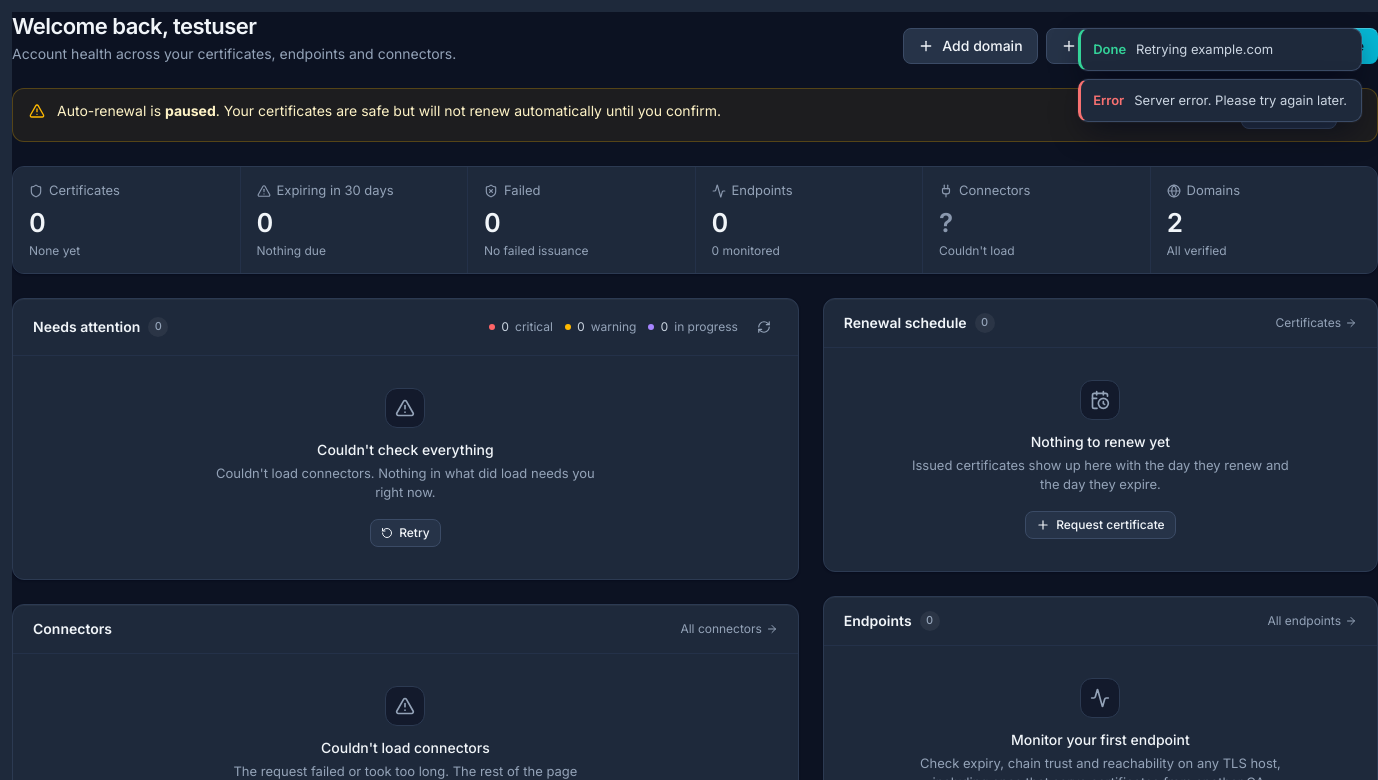
Overview › when health requests fail › never says all clear when one source failed, and retries it
The image size is (1378, 780).
Expected: the text "Couldn't check everything" is shown, [317,440,494,460]
Expected: the text "All clear" is not shown
Click the button "Retry".
click(405, 532)  # box [370,518,441,546]
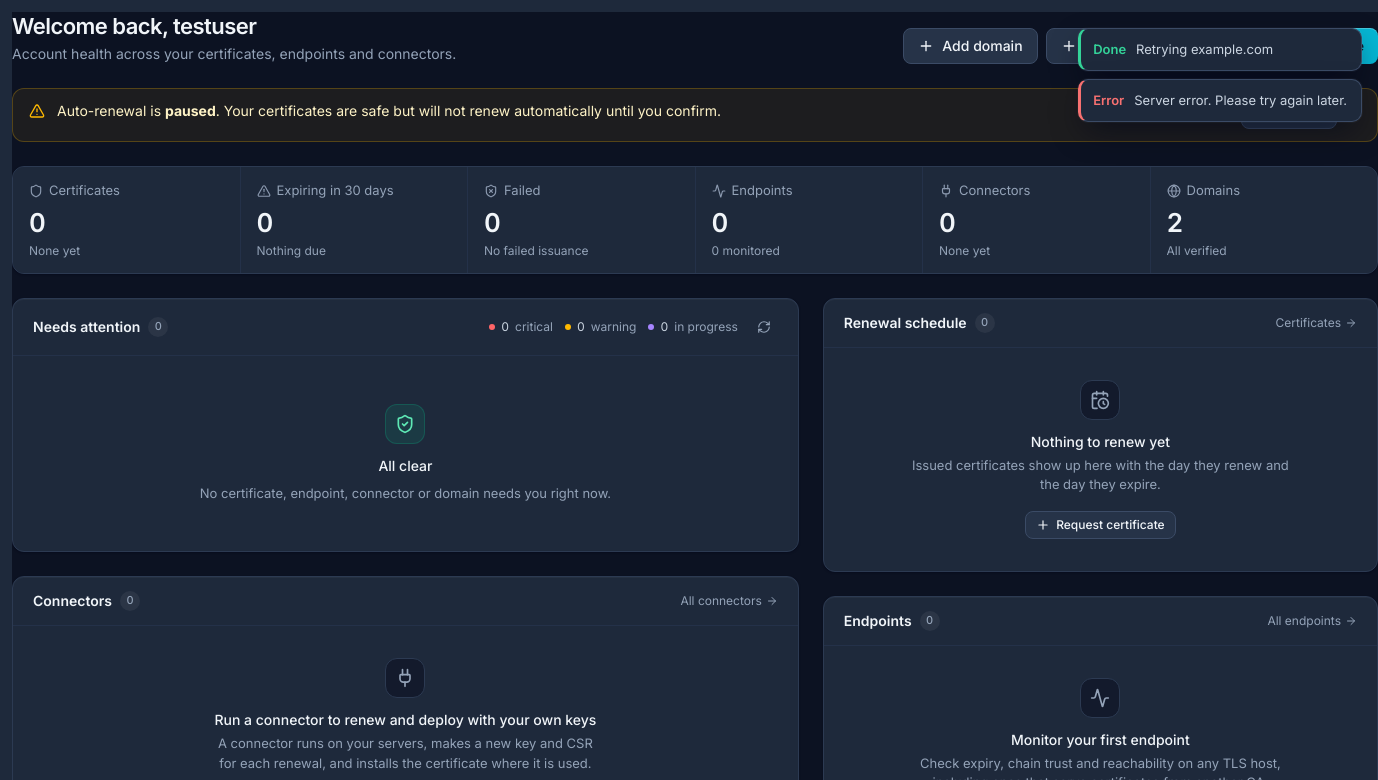
Expected: the text "All clear" is shown, [378,456,432,476]
Expected: the text "Couldn't check everything" is gone
